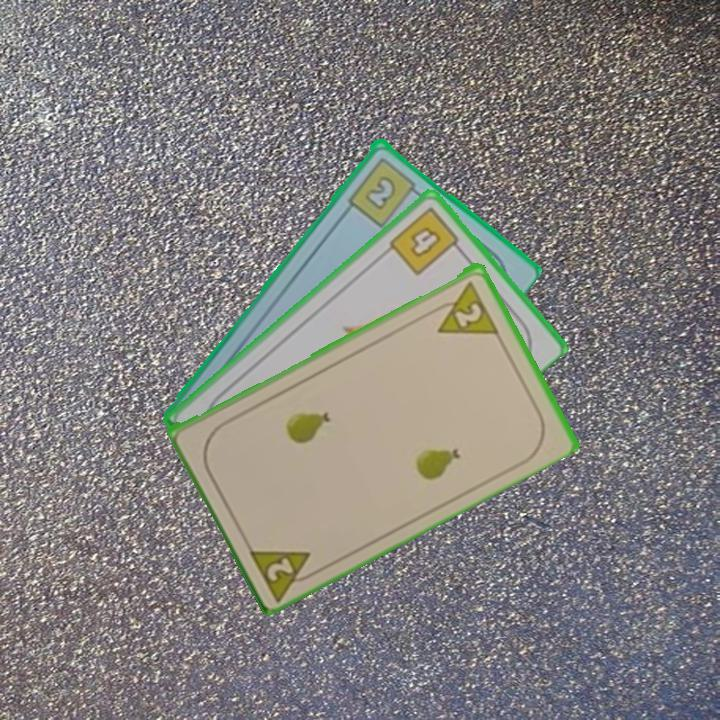2b: (344, 153, 424, 230)
2p: (244, 542, 324, 602), (426, 277, 501, 337)
4b: (385, 203, 466, 279)
